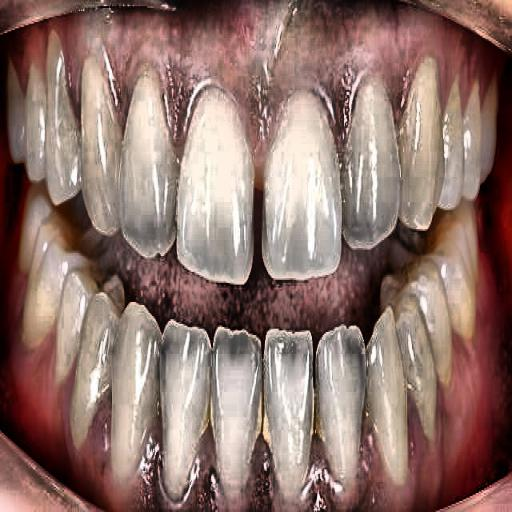Healthy: (22, 38, 440, 364)
